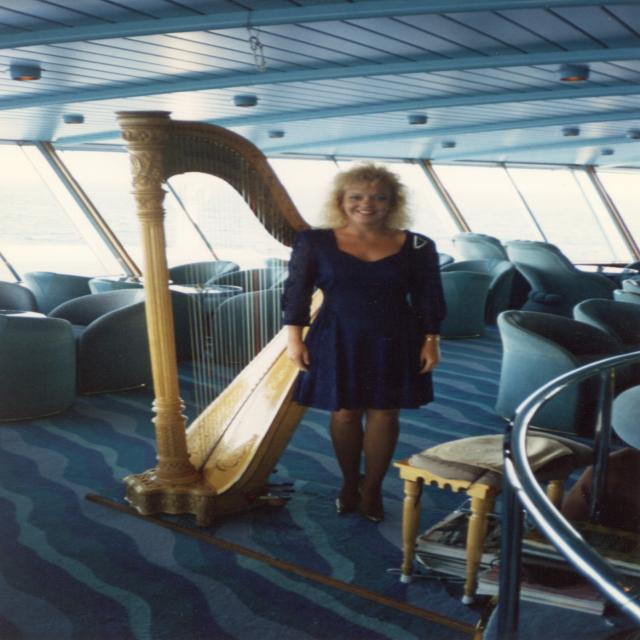harp: (104, 104, 338, 522)
